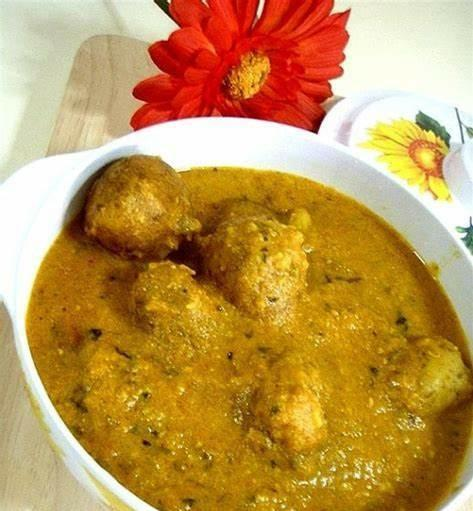DumAloo: (24, 151, 473, 511)
